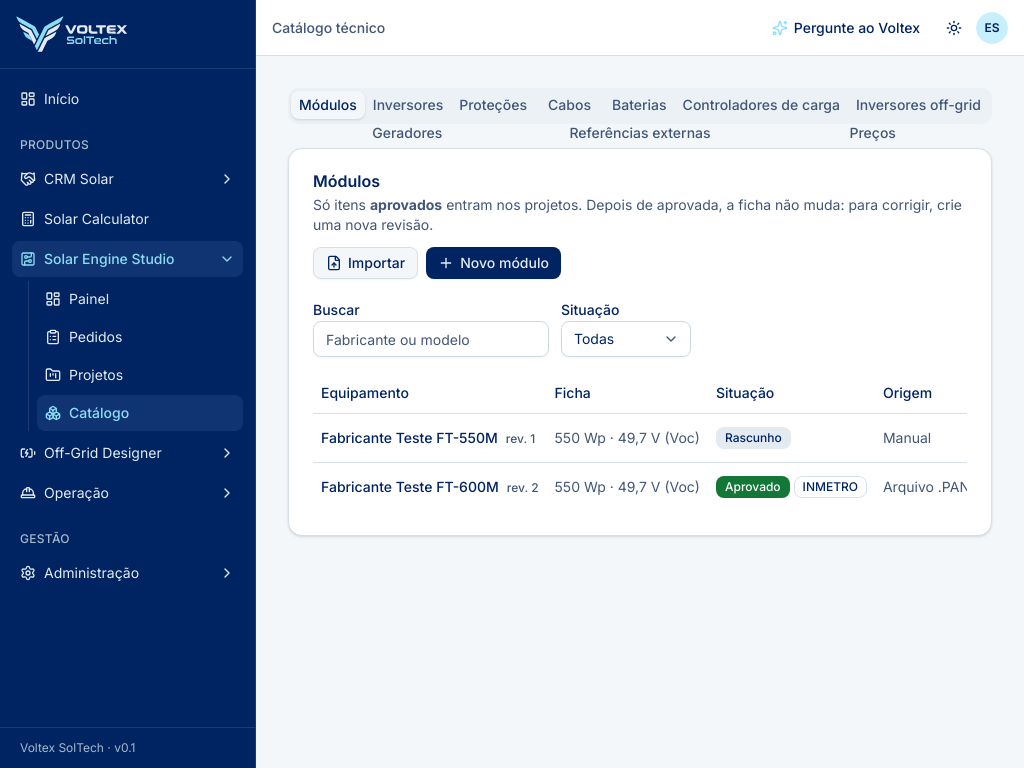
it: Administração → Catálogo técnico › lista os módulos com resumo da ficha, situação e origem; as outras abas começam vazias
Expected: the text "550 Wp · 49,7 V (Voc)" in the row of "FT-550M" is shown, x1=554 y1=428 x2=700 y2=446
Expected: the text "Rascunho" is shown, x1=716 y1=426 x2=791 y2=448
Click the tab "Inversores". click: (408, 105)
box: x1=365 y1=91 x2=451 y2=119
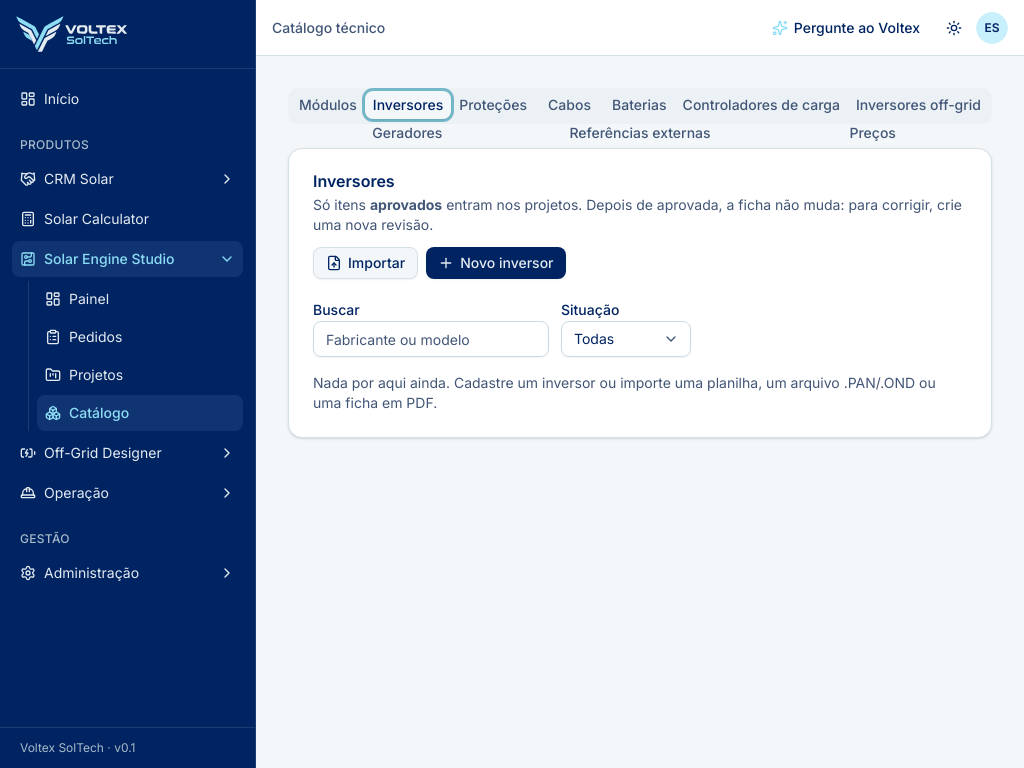
Expected: the text "Nada por aqui ainda" is shown, x1=313 y1=374 x2=542 y2=391
